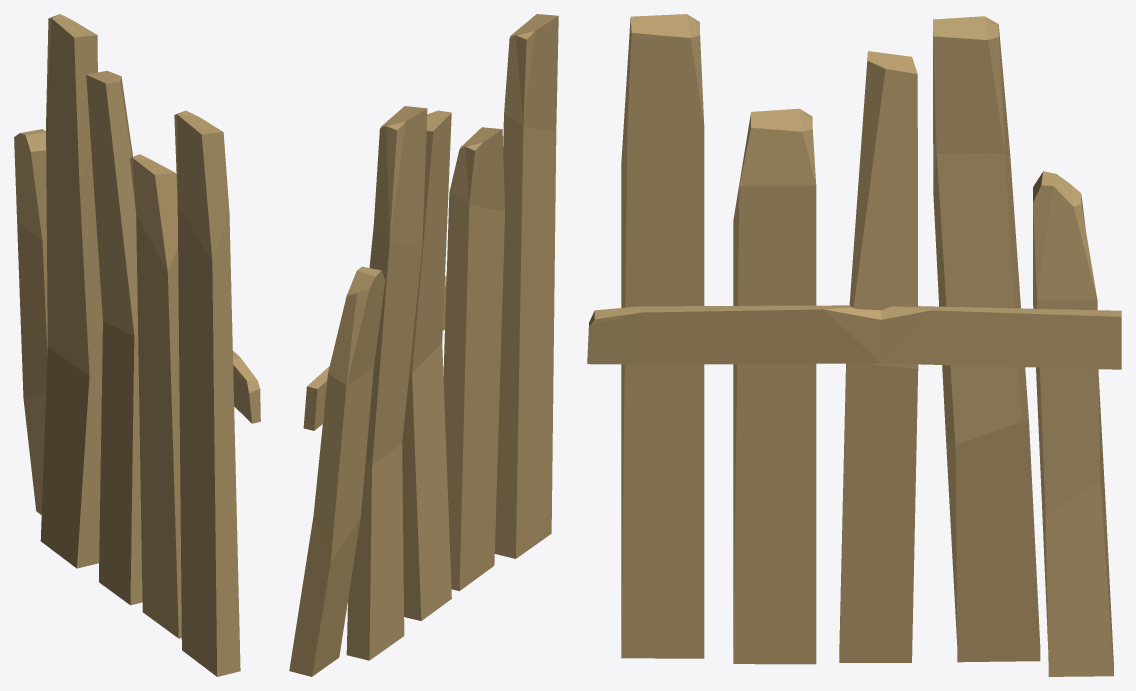
The picture shows the model from 3 angles, left to right: view 1: azimuth 30°, elevation 25°; view 2: azimuth 150°, elevation 25°; view 3: azimuth 270°, elevation 25°; orthographic projection. The views are drawn at different scales.
Parts seen in each view (by area): view 1: zhalan_1; view 2: zhalan_1; view 3: zhalan_1.
Part boxes in pixels (x1,y1,x2,y2): zhalan_1: (14,14,260,676); zhalan_1: (289,14,558,676); zhalan_1: (587,14,1121,676).
Size of the model in its own units: 16.19 by 123 by 95.1.
